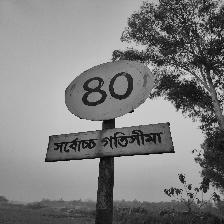Speed-limit: (46, 58, 172, 161)
